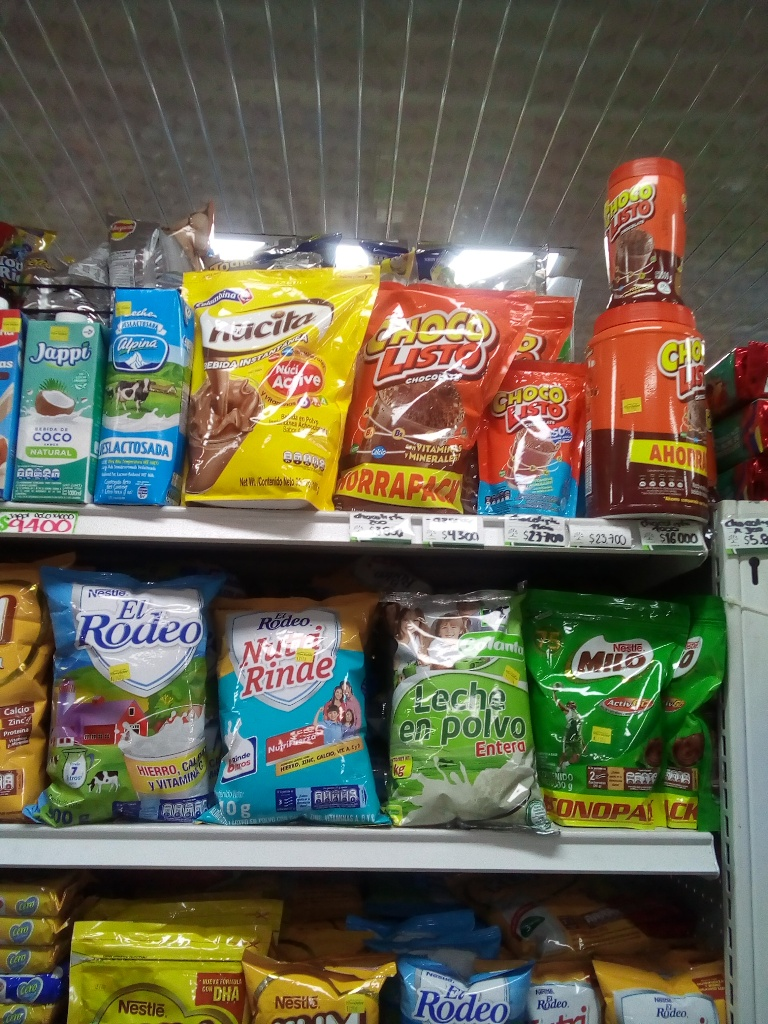COL0170103TRR00100: (581, 302, 718, 522)
COL0170104DYP20000: (478, 355, 585, 520)
